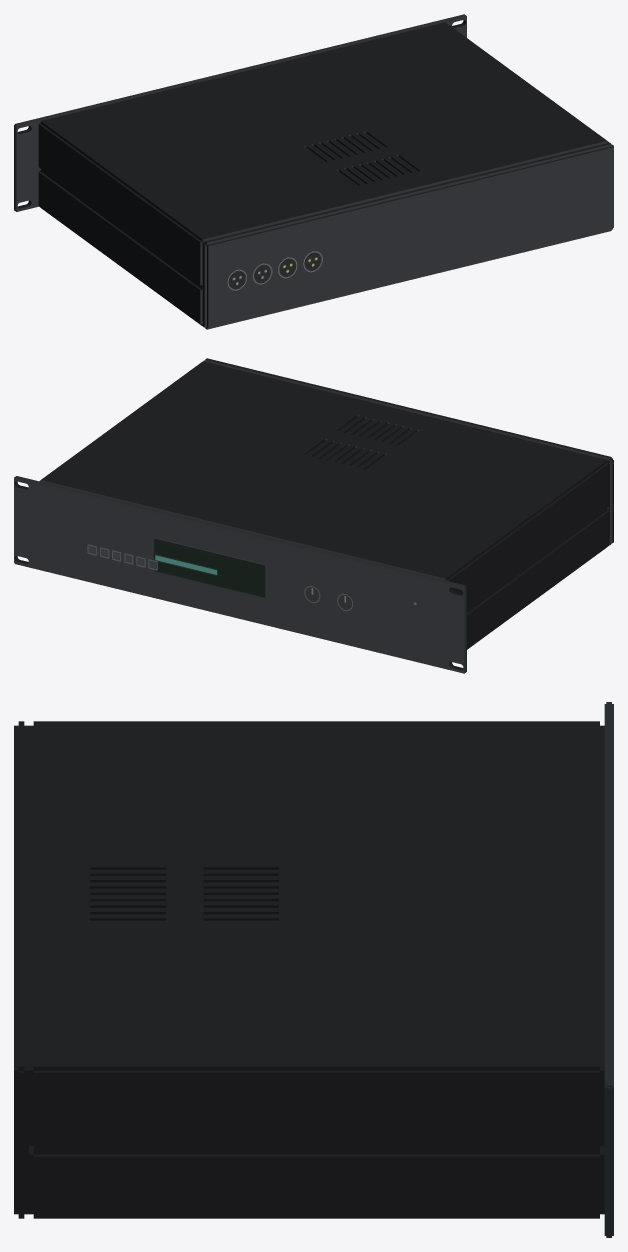
Rendered from eventide-h9000.glb.
3 views of the same model, one above another, from view 1: azimuth 30°, elevation 25°; view 2: azimuth 150°, elevation 25°; view 3: azimuth 270°, elevation 25° (orthographic). The views are drawn at different scales.
Parts seen in each view (by area): view 1: eventide-h9000-body; view 2: eventide-h9000-body; view 3: eventide-h9000-body.
Boxes of the visible parts, left/top/right/bottom form: eventide-h9000-body: left=14, top=14, right=613, bottom=329; eventide-h9000-body: left=14, top=358, right=613, bottom=673; eventide-h9000-body: left=14, top=702, right=613, bottom=1237.
Size of the model in its own units: 0.483 by 0.089 by 0.318.
1 material, 1 textured.
